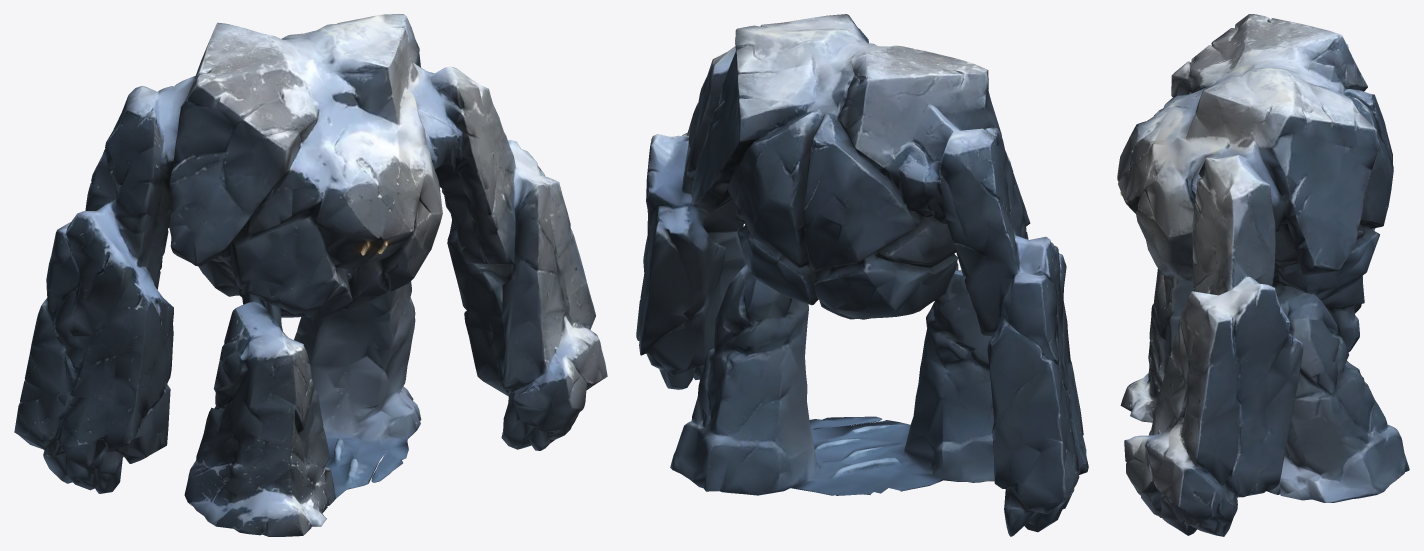
File: golem_roca.glb
The picture shows the model from 3 angles, left to right: view 1: azimuth 30°, elevation 25°; view 2: azimuth 150°, elevation 25°; view 3: azimuth 270°, elevation 25°; orthographic projection. The views are drawn at different scales.
Visible parts, largest first — view 1: tripo_node_f05d8305-b4d8-458c-a6f4-6db30b0cc441; view 2: tripo_node_f05d8305-b4d8-458c-a6f4-6db30b0cc441; view 3: tripo_node_f05d8305-b4d8-458c-a6f4-6db30b0cc441.
Boxes of the visible parts, bbox=[...] form: tripo_node_f05d8305-b4d8-458c-a6f4-6db30b0cc441: bbox=[14, 14, 607, 536]; tripo_node_f05d8305-b4d8-458c-a6f4-6db30b0cc441: bbox=[636, 14, 1088, 536]; tripo_node_f05d8305-b4d8-458c-a6f4-6db30b0cc441: bbox=[1117, 14, 1409, 536].
Bounding box in the file's own units: 0.9996 × 0.7997 × 0.546.
1 material, 1 textured.
